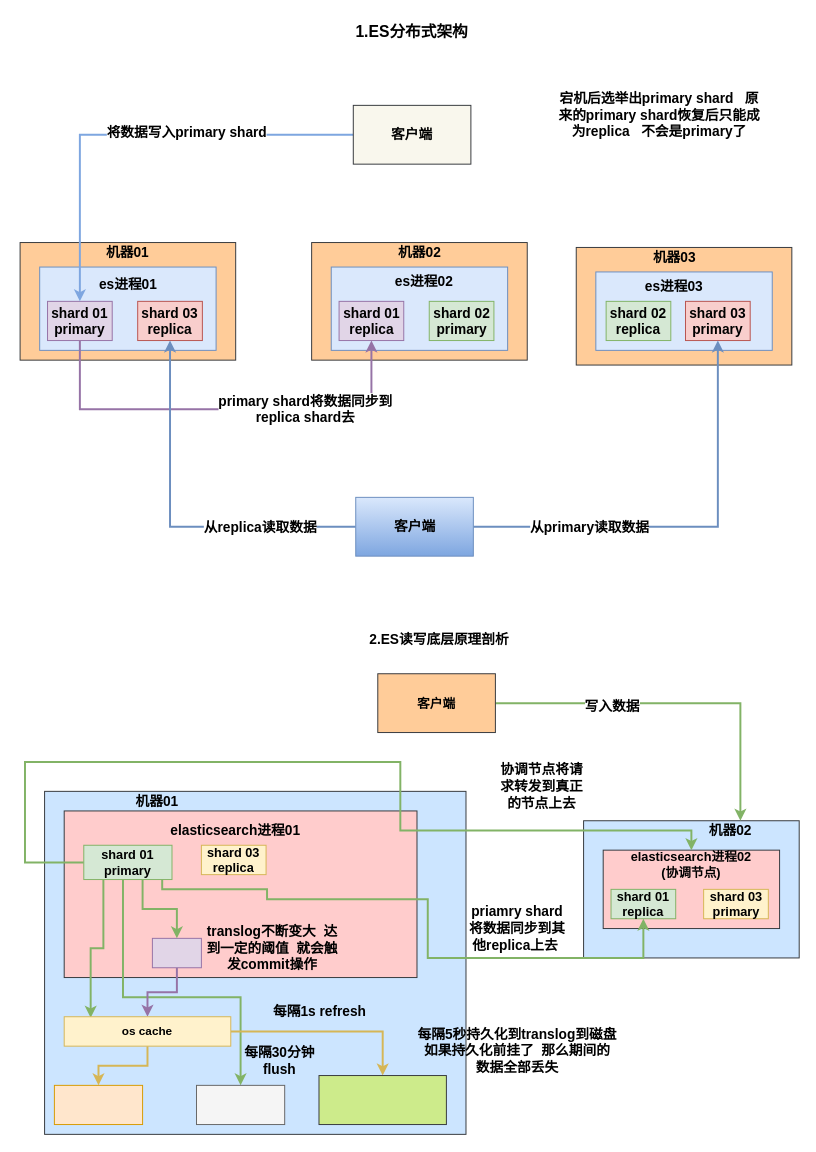
This 816x1152 diagram has some shape labels left out. The centre of each missing label's shape, as x and y in pixels:
commit point (磁盘): the point at 240,1104
segmeng file (磁盘): the point at 98,1104
translog 日志文件 (磁盘): the point at 382,1100
内存buffer: the point at 176,952
